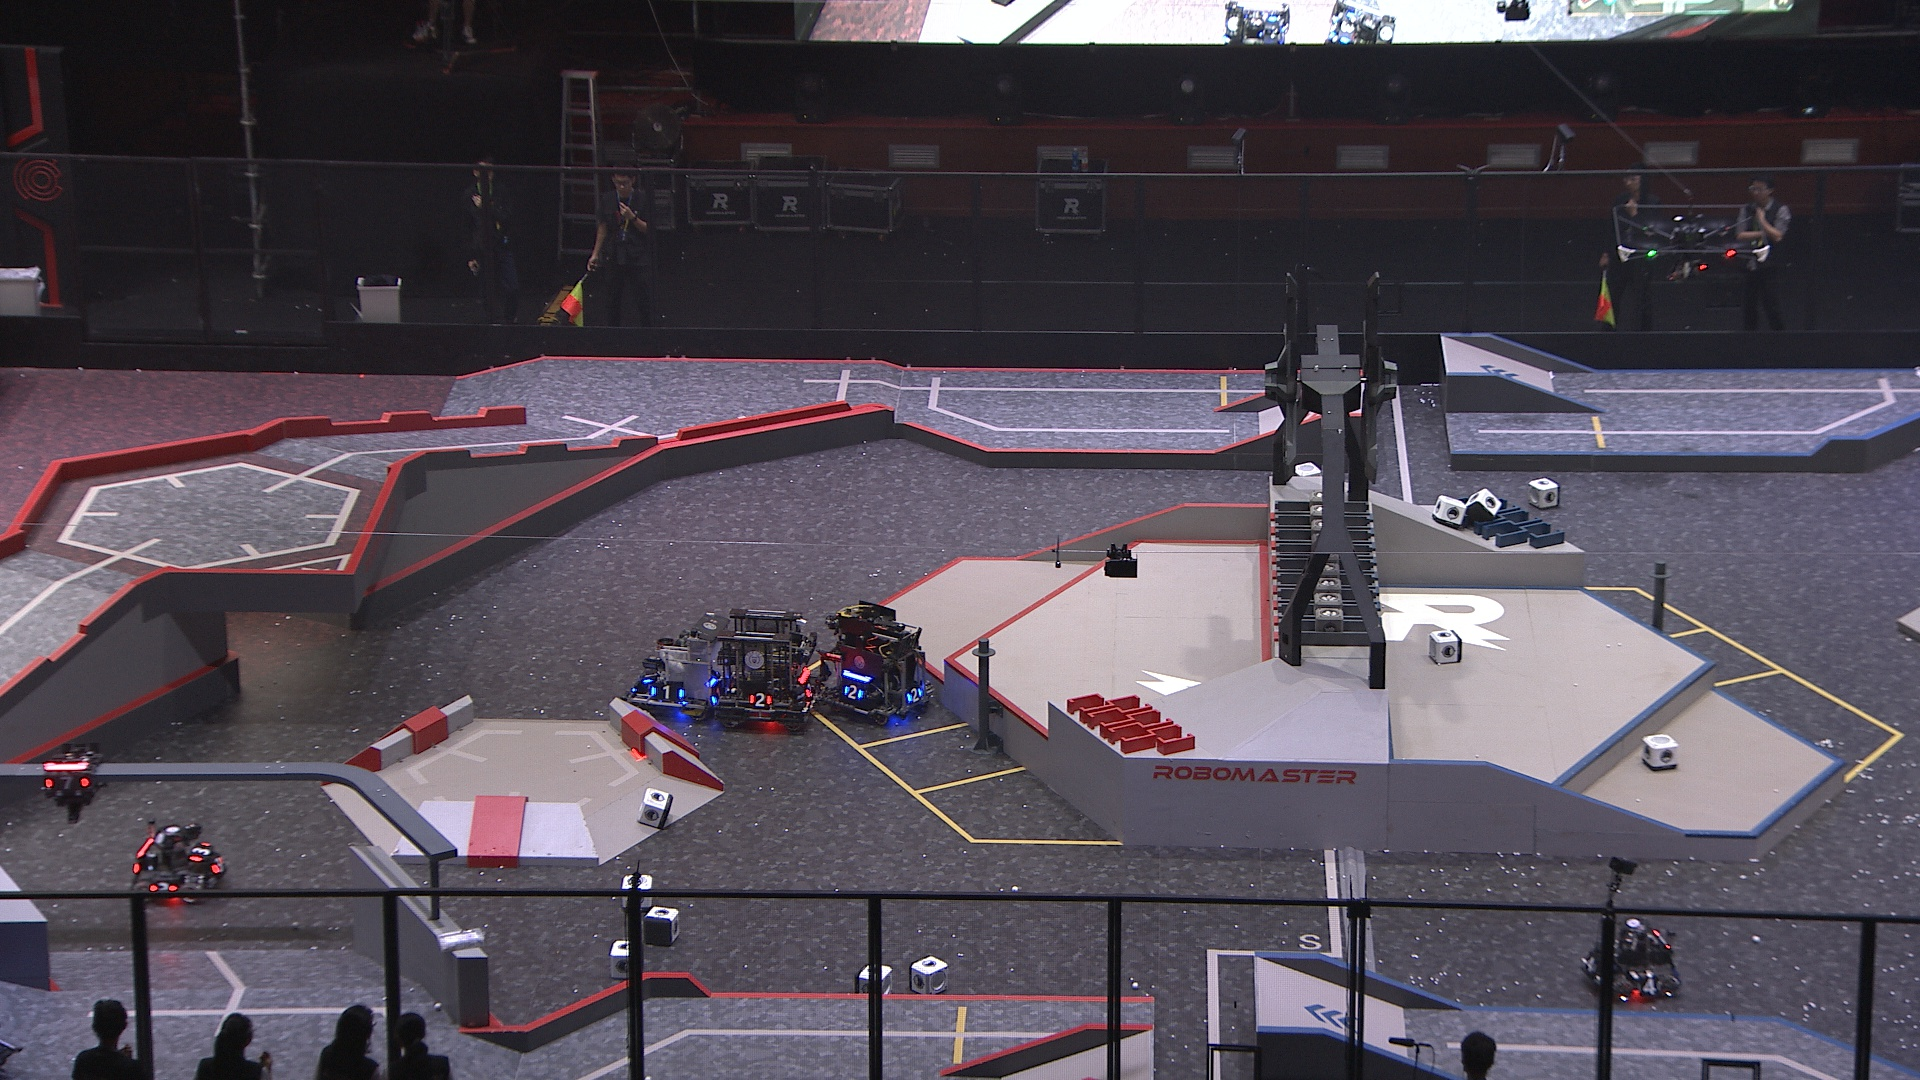armor: (44, 773, 90, 793), (650, 680, 688, 702), (185, 837, 212, 864), (1634, 975, 1664, 997), (707, 678, 728, 708), (148, 878, 177, 897), (745, 690, 773, 708), (642, 662, 662, 684), (843, 684, 868, 702), (800, 679, 820, 700), (903, 684, 924, 704), (1584, 949, 1598, 977), (207, 855, 225, 876)
car: (812, 599, 945, 725), (711, 604, 825, 727), (626, 608, 736, 717), (127, 812, 237, 911), (1578, 913, 1683, 1011)
ignore: (1221, 0, 1295, 44)
watcher: (36, 738, 109, 822)
